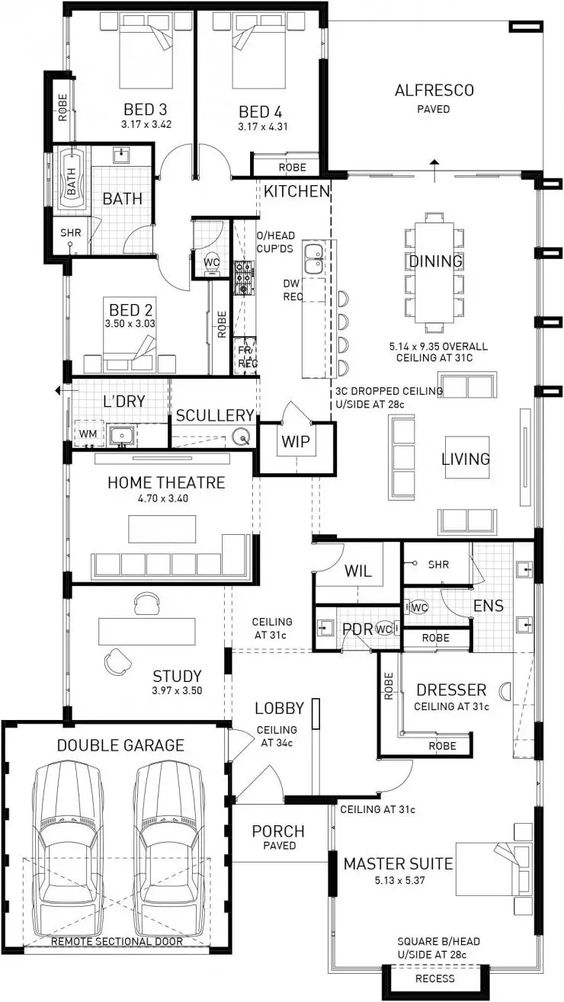door: (157, 139, 194, 178), (195, 138, 232, 177), (119, 222, 157, 256), (153, 256, 191, 290), (309, 541, 347, 575), (378, 757, 416, 791), (191, 218, 226, 251)
room: (329, 171, 543, 542), (328, 796, 543, 973), (63, 448, 260, 586), (63, 582, 232, 725), (193, 2, 328, 181), (63, 255, 234, 379), (63, 1, 197, 145), (377, 649, 545, 758)
